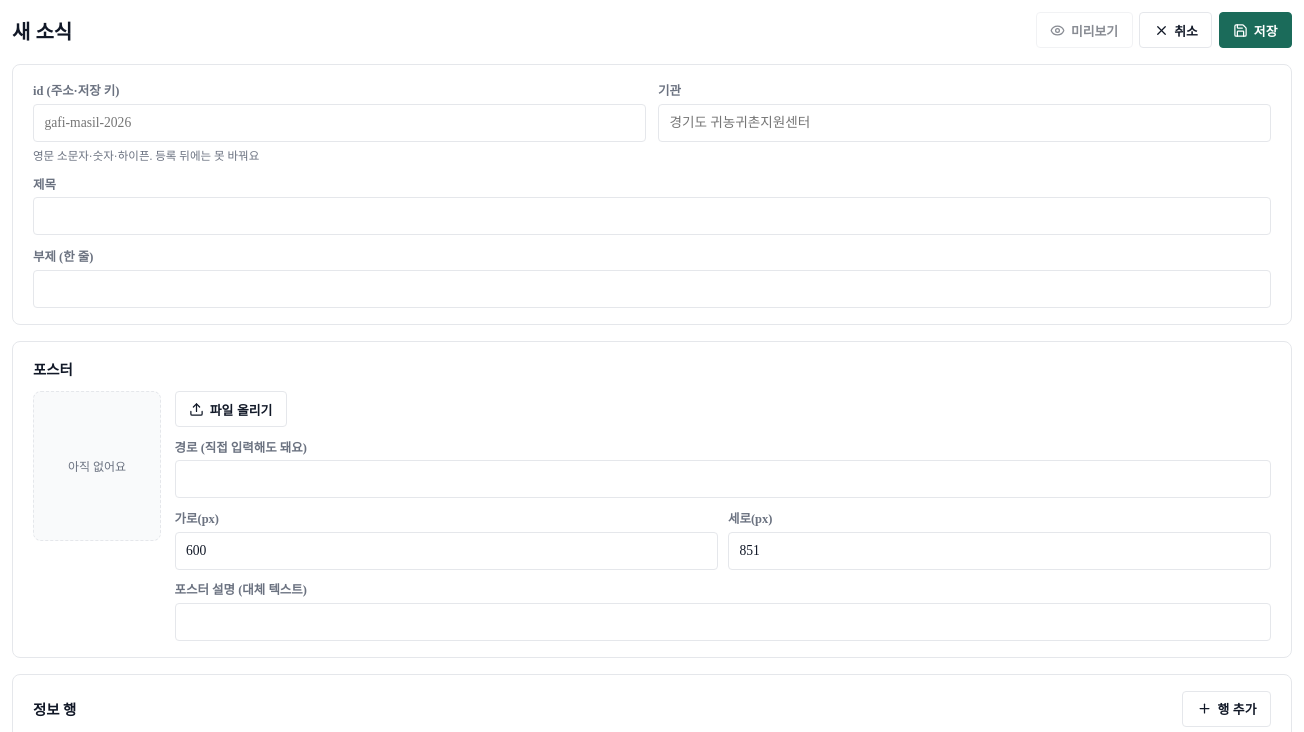
Test: admin PromoForm › 필수값이 비면 저장 요청을 보내지 않고 안내만 띄운다
Click the button "저장" at (1255, 30), box [1219, 12, 1292, 48]
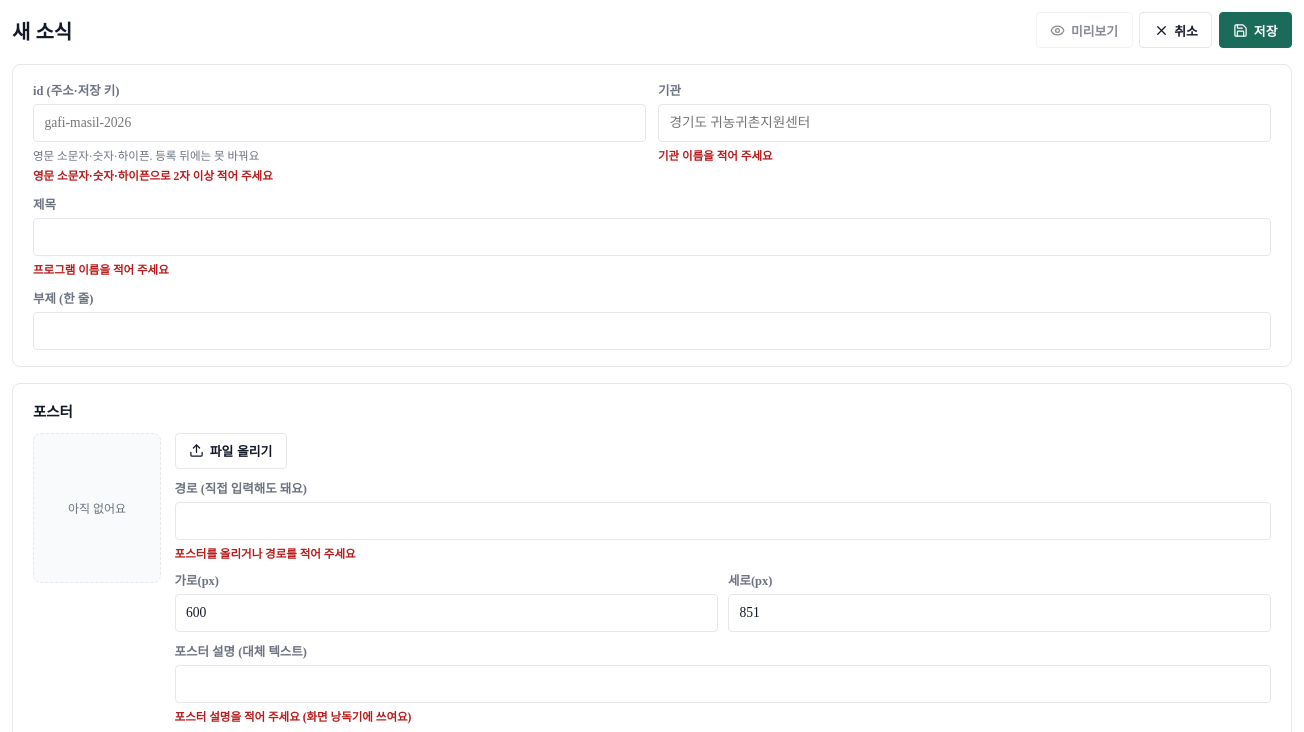
Check: the text "기관 이름을 적어 주세요" is shown, box [658, 150, 773, 162]
